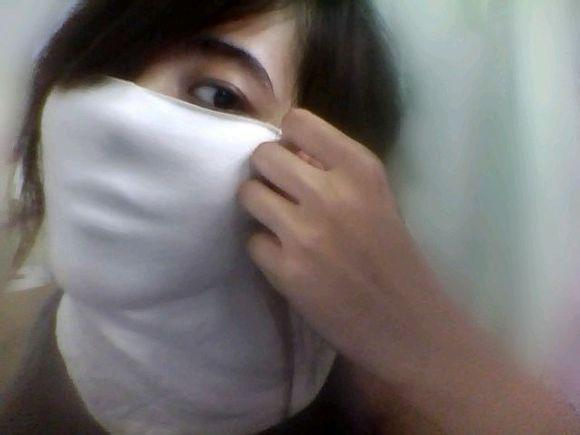OK: (36, 32, 287, 298)
